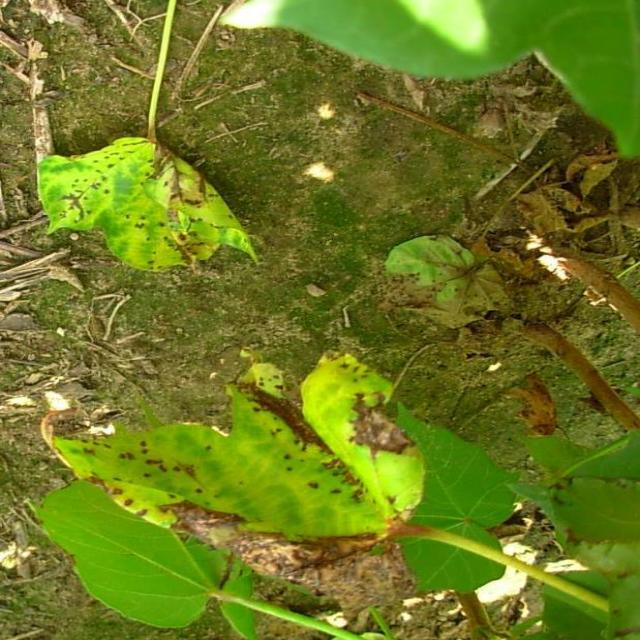Bacterial Blight: (62, 367, 414, 542)
